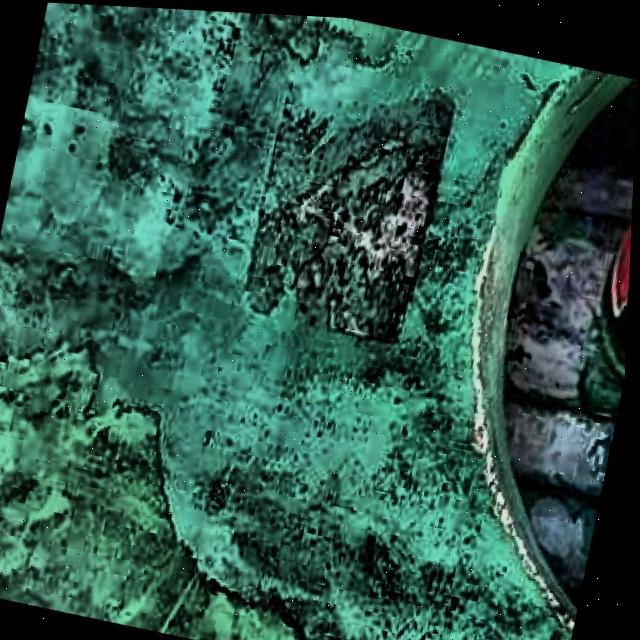glass: (589, 220, 633, 402)
